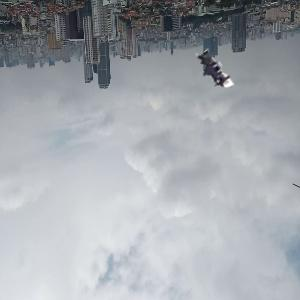drone: (184, 38, 245, 99)
